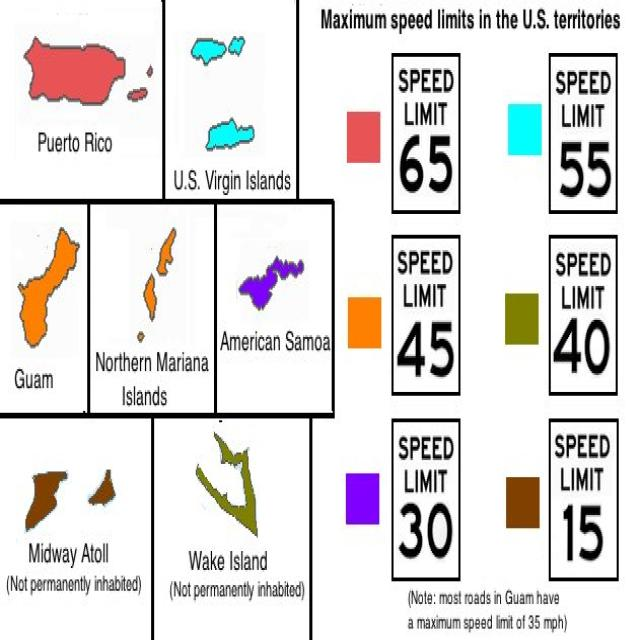speedLimit15: (547, 410, 618, 584)
speedLimit30: (390, 416, 460, 586)
speedLimit40: (546, 228, 619, 397)
speedLimit45: (388, 232, 461, 399)
speedLimit55: (547, 49, 615, 216)
speedLimit60: (389, 47, 460, 216)
